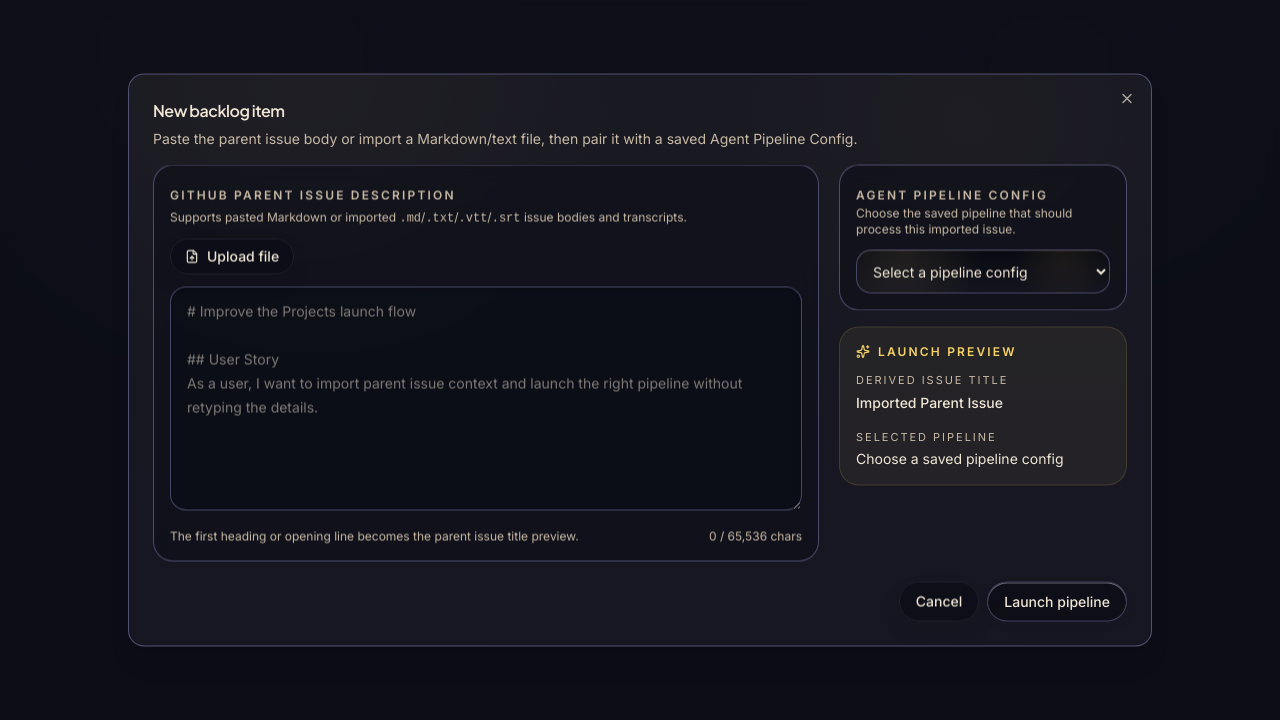
Test: NewBacklogItemDialog › shows inline validation errors when the form is empty
Click the button "Launch pipeline" at {"x": 1057, "y": 602}, box [987, 582, 1127, 622]
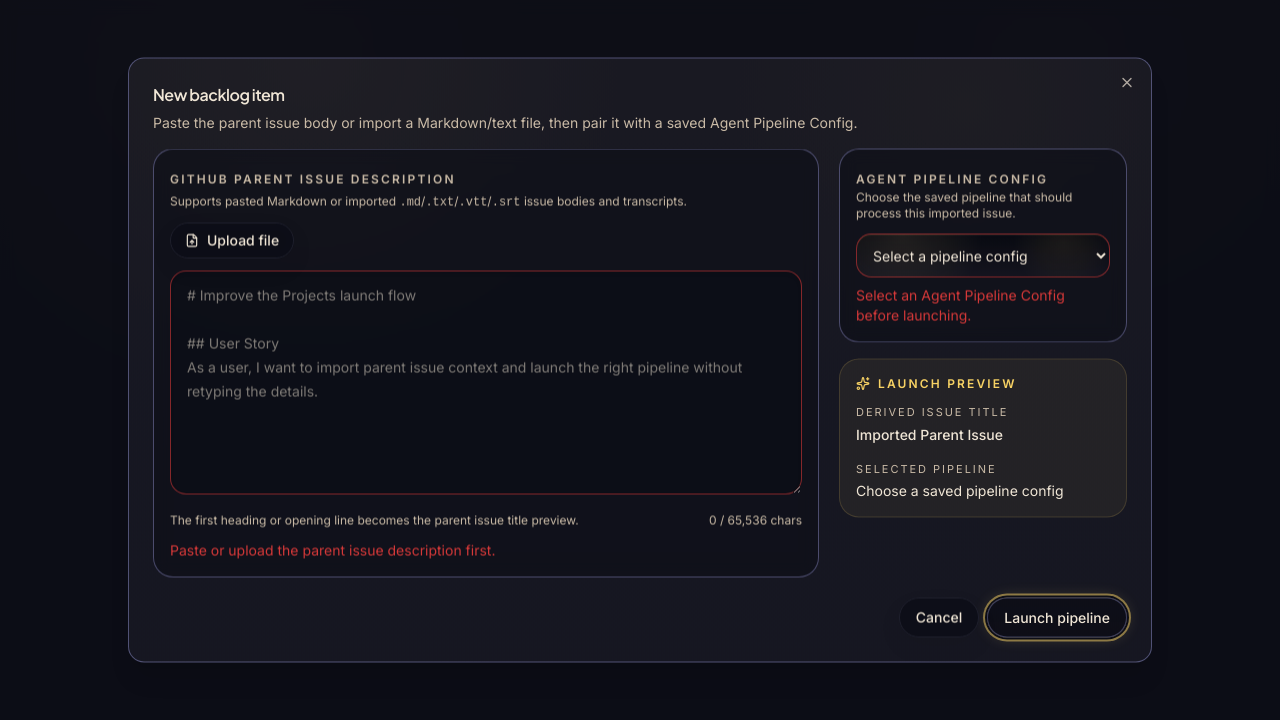
Check: the text "Paste or upload the parent issue description first." is shown, box [170, 542, 496, 558]
Check: the text "Select an Agent Pipeline Config before launching." is shown, box [856, 286, 1065, 324]
